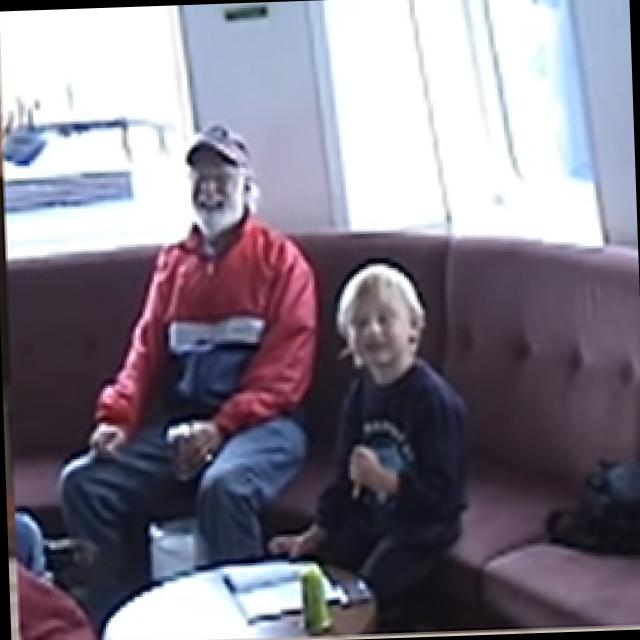person: (48, 123, 328, 636), (261, 258, 474, 637)
